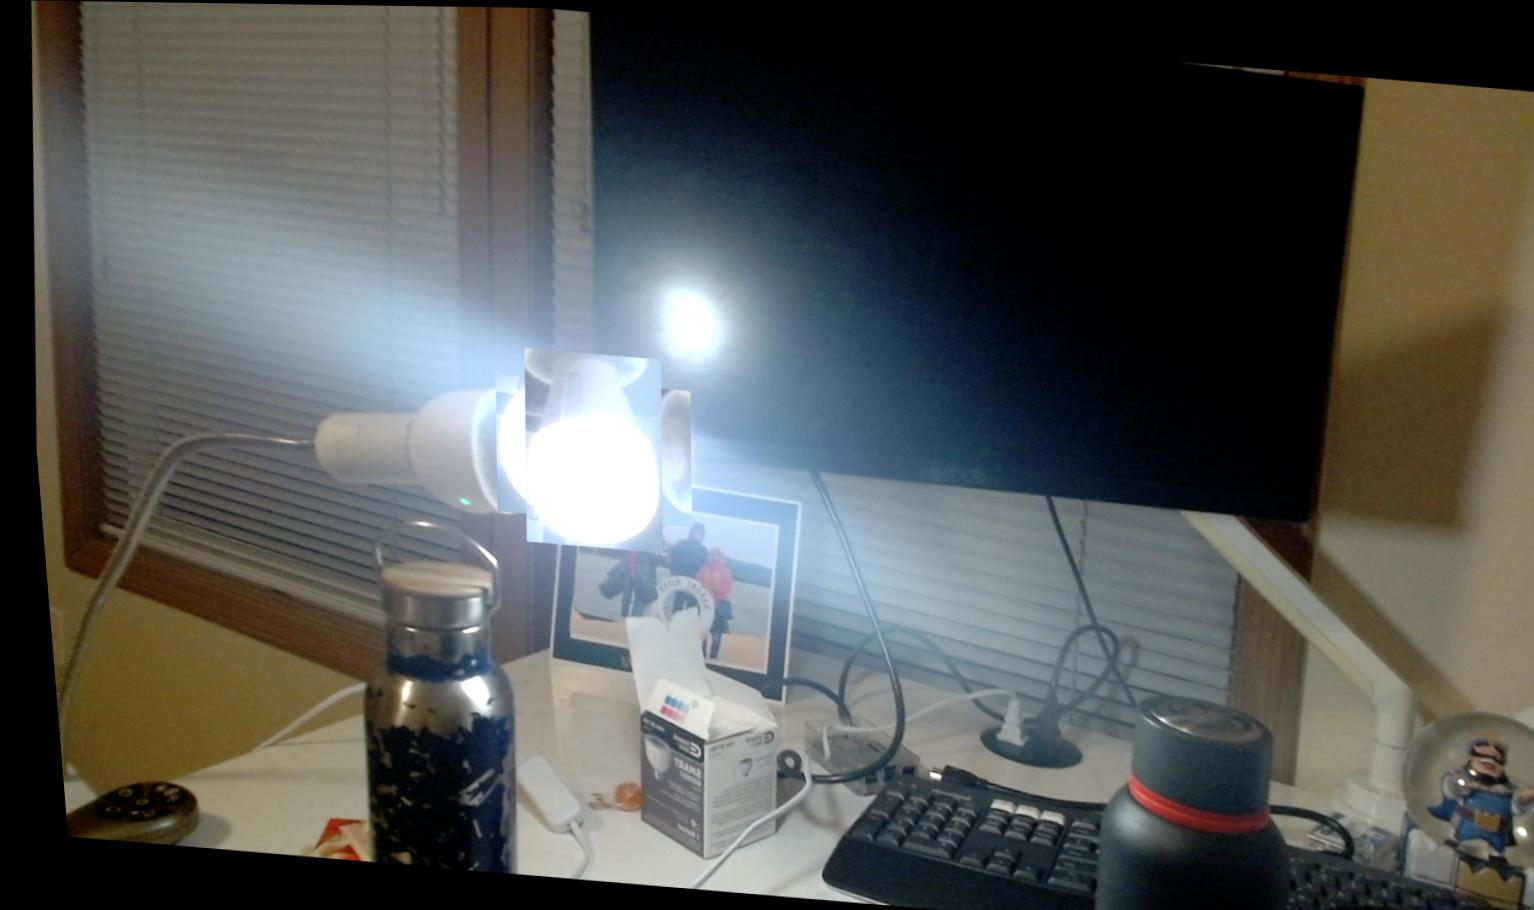TubeLight: (491, 360, 679, 537)
